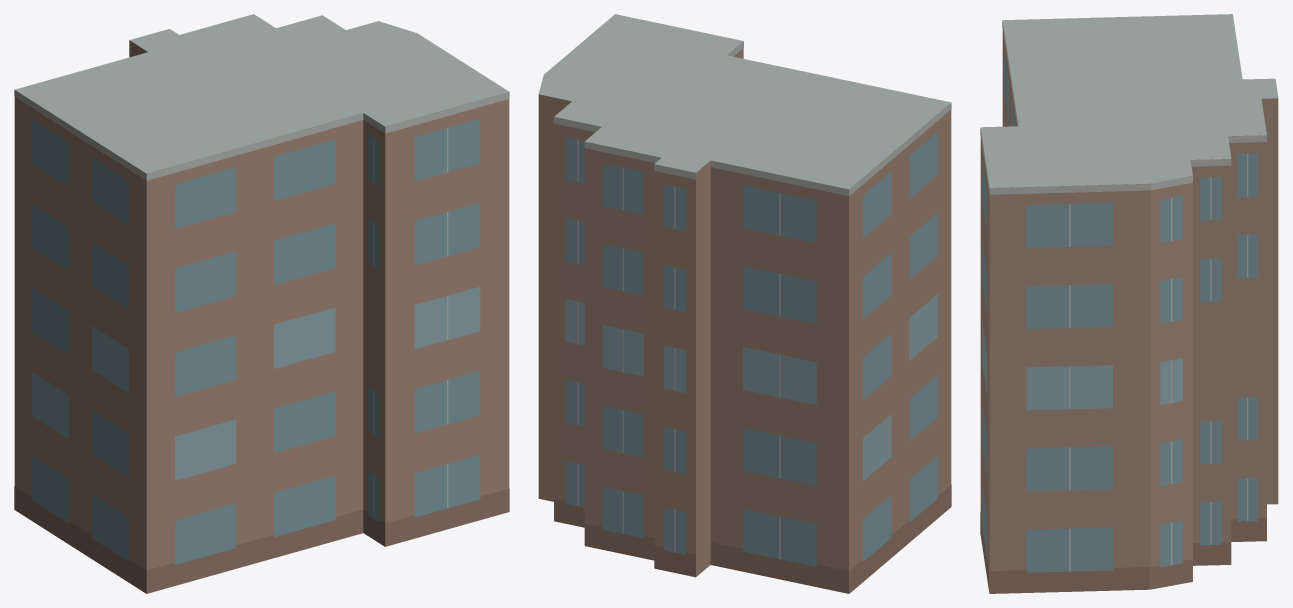
The model's file is survey-upis-33016021.glb.
3 views of the same model, side by side, from view 1: azimuth 30°, elevation 25°; view 2: azimuth 150°, elevation 25°; view 3: azimuth 270°, elevation 25° (orthographic). The views are drawn at different scales.
Parts seen in each view (by area): view 1: survey-upis-33016021.tmp; view 2: survey-upis-33016021.tmp; view 3: survey-upis-33016021.tmp.
Part boxes in pixels (x1,y1,x2,y2): survey-upis-33016021.tmp: [14, 14, 509, 593]; survey-upis-33016021.tmp: [538, 14, 951, 593]; survey-upis-33016021.tmp: [980, 14, 1278, 593].
Size of the model in its own units: 13.43 by 14.6 by 9.73.
